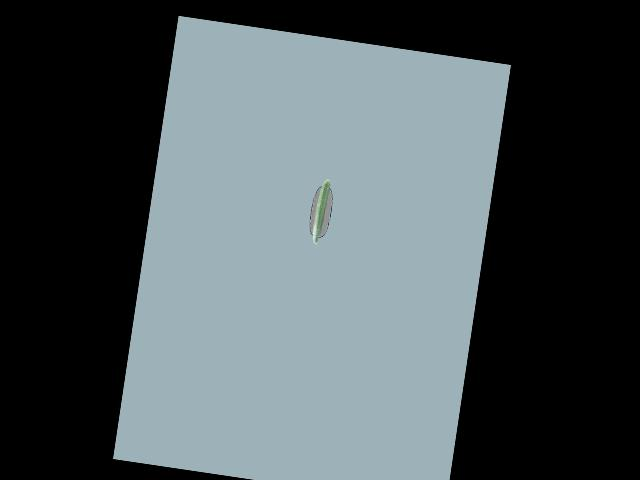cucumber: (311, 178, 331, 245)
